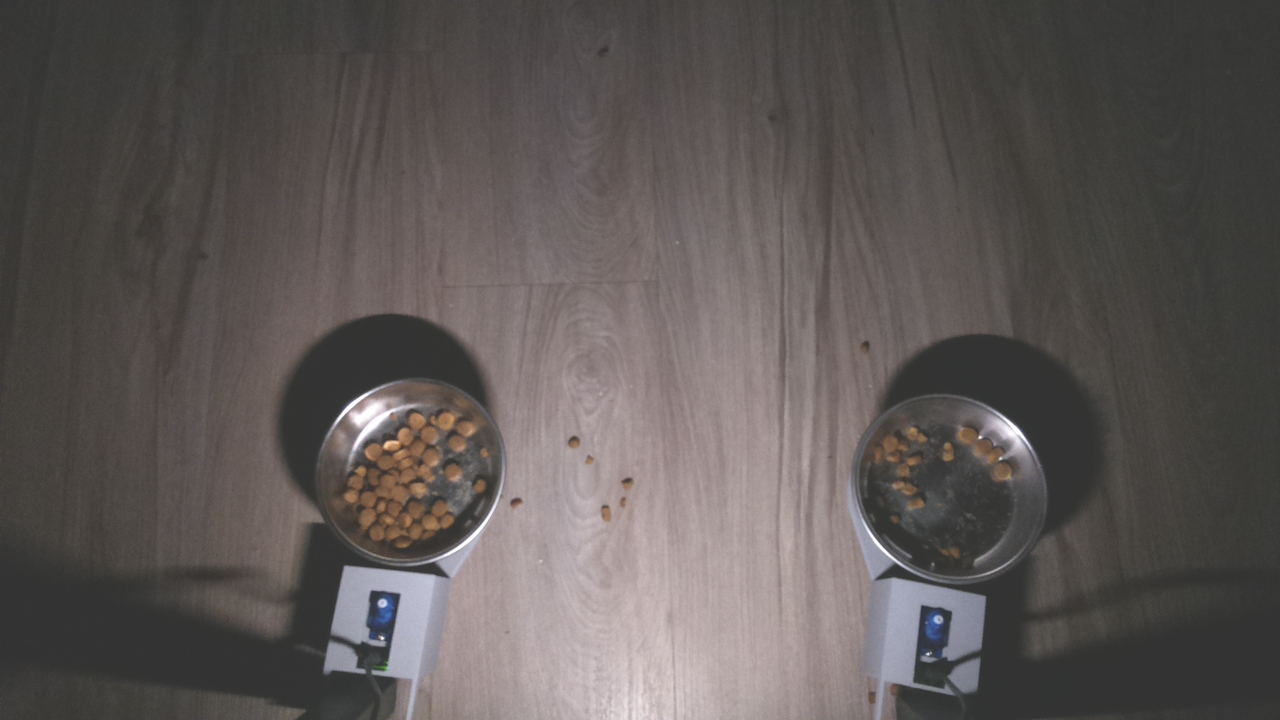open_bowl: (845, 387, 1054, 586), (308, 372, 509, 569)
